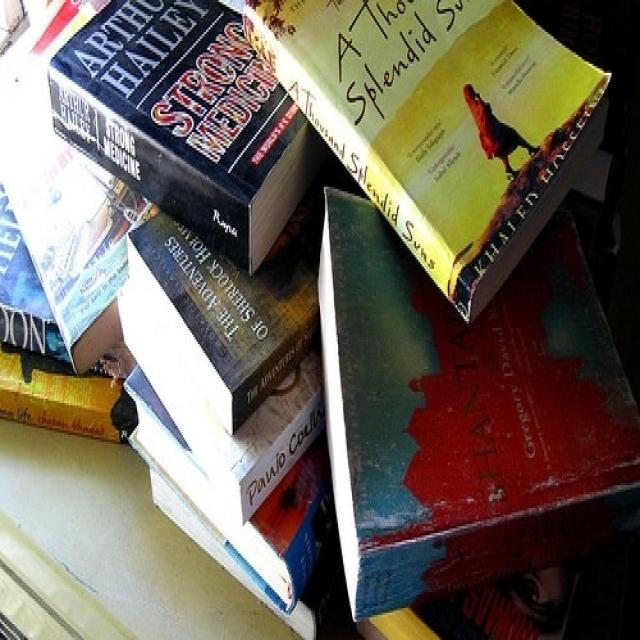book: (330, 198, 639, 541), (54, 77, 248, 270)
